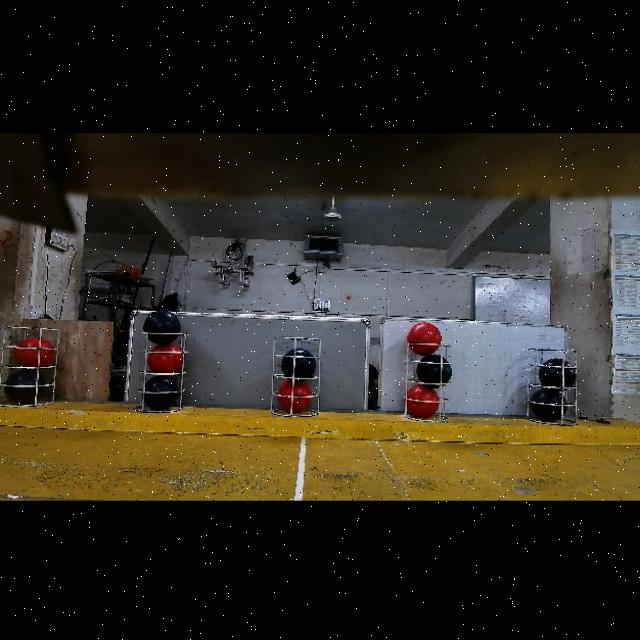P: (4, 369, 46, 405), (529, 388, 568, 422), (143, 311, 181, 345), (414, 357, 453, 389), (144, 375, 178, 411), (538, 358, 576, 389), (281, 348, 316, 381)
R: (16, 338, 52, 371), (407, 323, 442, 356), (406, 384, 438, 419), (277, 381, 311, 413), (148, 343, 182, 375)
S: (0, 328, 64, 416), (268, 329, 322, 416), (134, 331, 190, 412), (524, 346, 578, 428), (399, 343, 449, 422)
